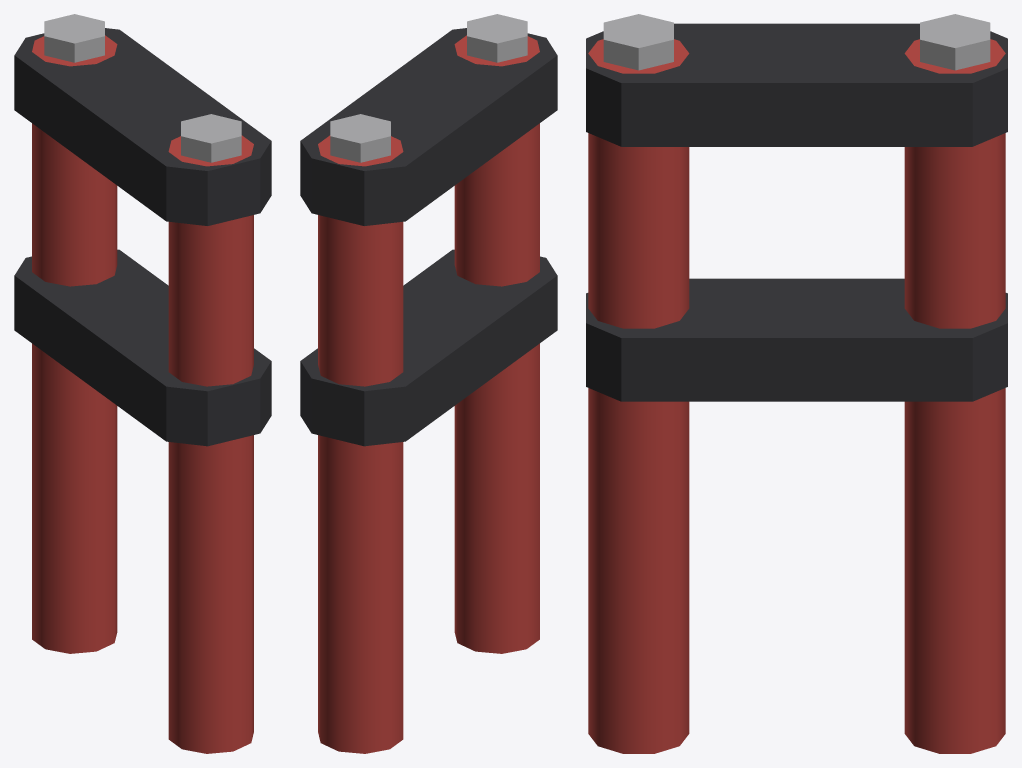
Rendered from tourer_fork_black_upper_lod1.glb.
3 renders of one model, left to right at view 1: azimuth 30°, elevation 25°; view 2: azimuth 150°, elevation 25°; view 3: azimuth 270°, elevation 25°, orthographic. The views are drawn at different scales.
Visible parts, largest first — view 1: tourer_fork_black_upper_lod1; view 2: tourer_fork_black_upper_lod1; view 3: tourer_fork_black_upper_lod1.
Boxes of the visible parts, left/top/right/bottom form: tourer_fork_black_upper_lod1: left=14, top=14, right=271, bottom=753; tourer_fork_black_upper_lod1: left=300, top=14, right=557, bottom=753; tourer_fork_black_upper_lod1: left=586, top=14, right=1007, bottom=753.
Bounding box in the file's own units: 0.08 × 0.441 × 0.24.
